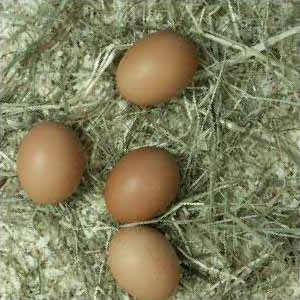egg: (115, 32, 199, 106), (104, 147, 181, 222), (107, 228, 181, 300), (18, 122, 84, 202)
